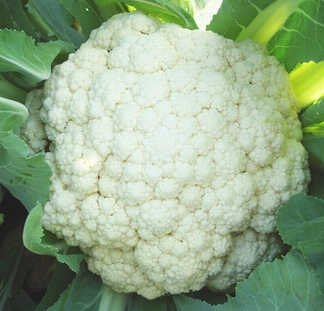cauliflower: (26, 9, 310, 302)
